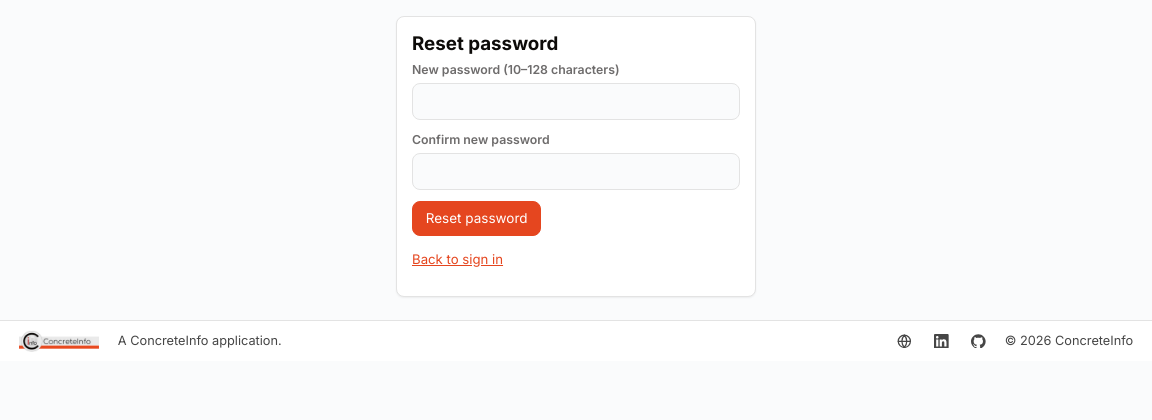
Test case: ResetPasswordPage › rejects mismatched passwords without calling the API
In the password field labelled "New password (10–128 characters)": x=576, y=102 [412, 83, 740, 120], type "longenoughpass"
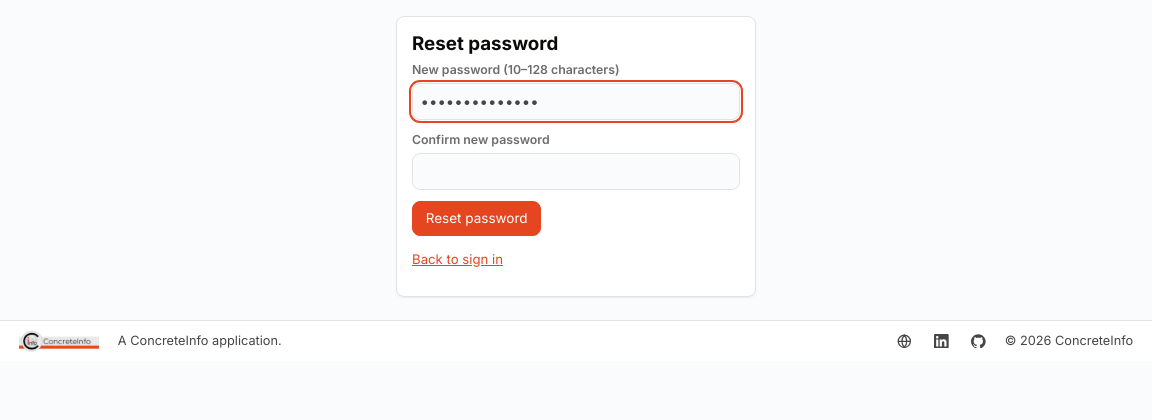
In the password field labelled "Confirm new password": x=576, y=172 [412, 153, 740, 190], type "differentpass"
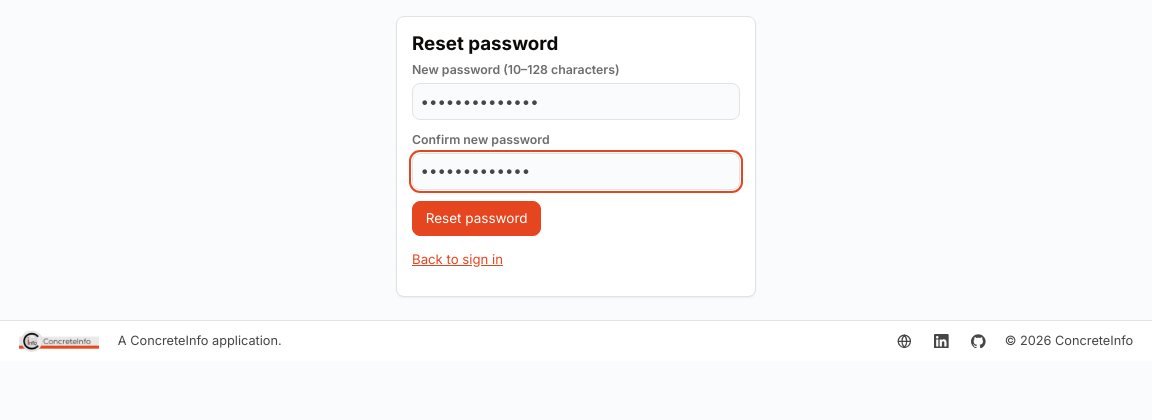
Click the button "Reset password": x=477, y=219 [412, 201, 541, 236]
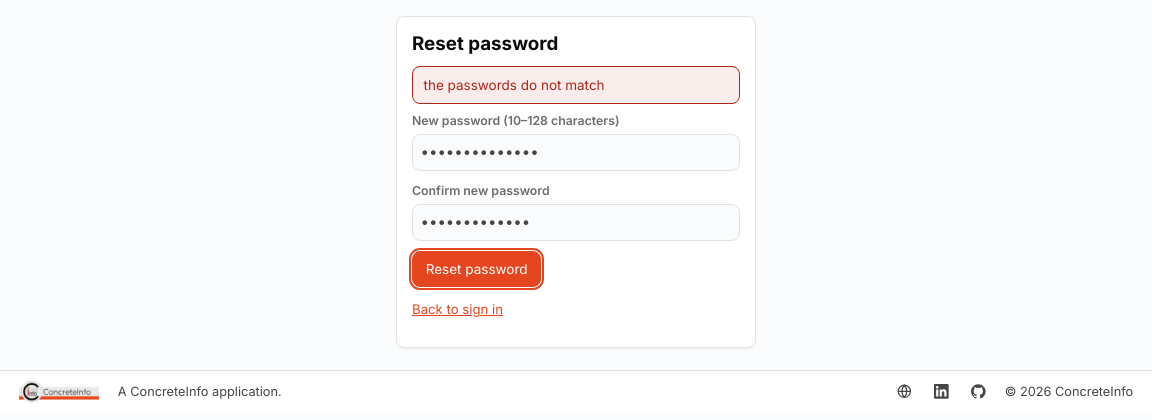
expect the message shows "do not match": met, box [424, 77, 605, 93]
